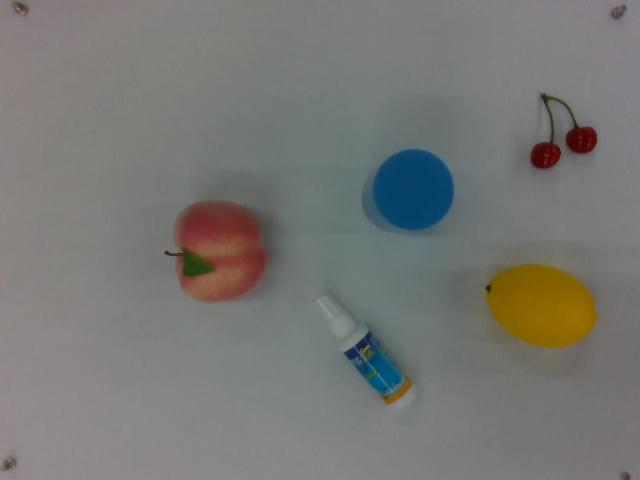cherry: (526, 85, 601, 172)
cylinder: (362, 144, 458, 235)
detergent: (308, 287, 423, 418)
lemon: (481, 259, 598, 355)
peach: (166, 198, 269, 303)
